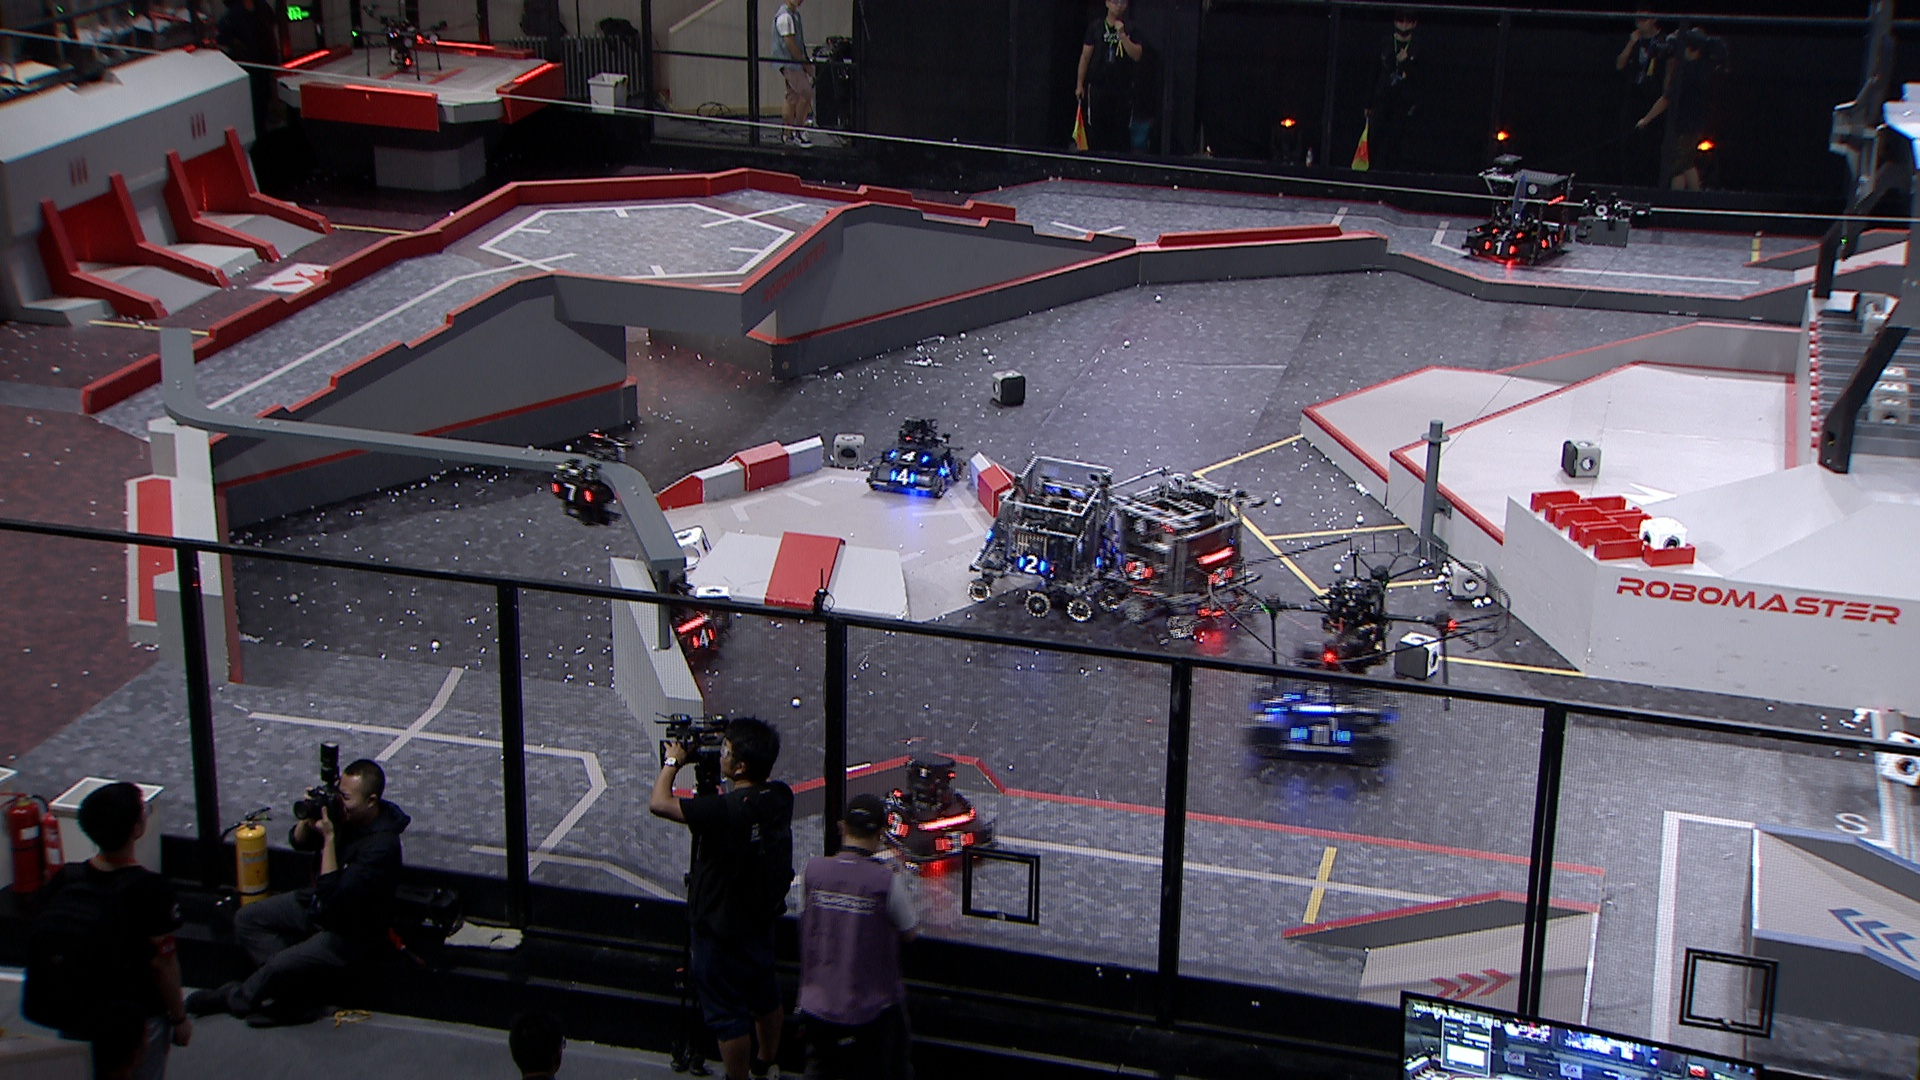armor: (1290, 723, 1352, 746), (549, 480, 595, 505), (934, 828, 975, 855), (1261, 688, 1290, 716), (887, 448, 928, 465), (882, 812, 910, 837), (1124, 559, 1153, 583), (1017, 555, 1048, 576), (1490, 224, 1524, 243), (1207, 562, 1233, 585), (887, 465, 916, 487), (690, 626, 716, 647), (1482, 240, 1516, 256), (1538, 233, 1560, 249), (939, 458, 955, 479)
car: (1095, 463, 1263, 638), (965, 455, 1116, 618), (1247, 638, 1403, 770), (868, 752, 997, 876), (1457, 152, 1578, 268), (604, 566, 731, 676), (862, 414, 968, 501)
watcher: (547, 431, 632, 527)
